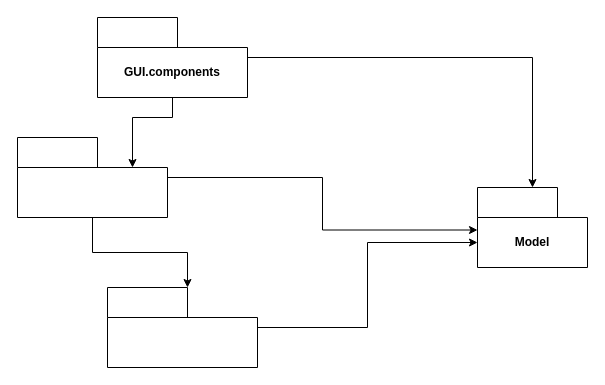
Image size: 605x385. Some labels were removed from this diagram. Each missing label, with the centre of its shape:
dataAccess: the point at 92,177
mainClasses: the point at 182,327
